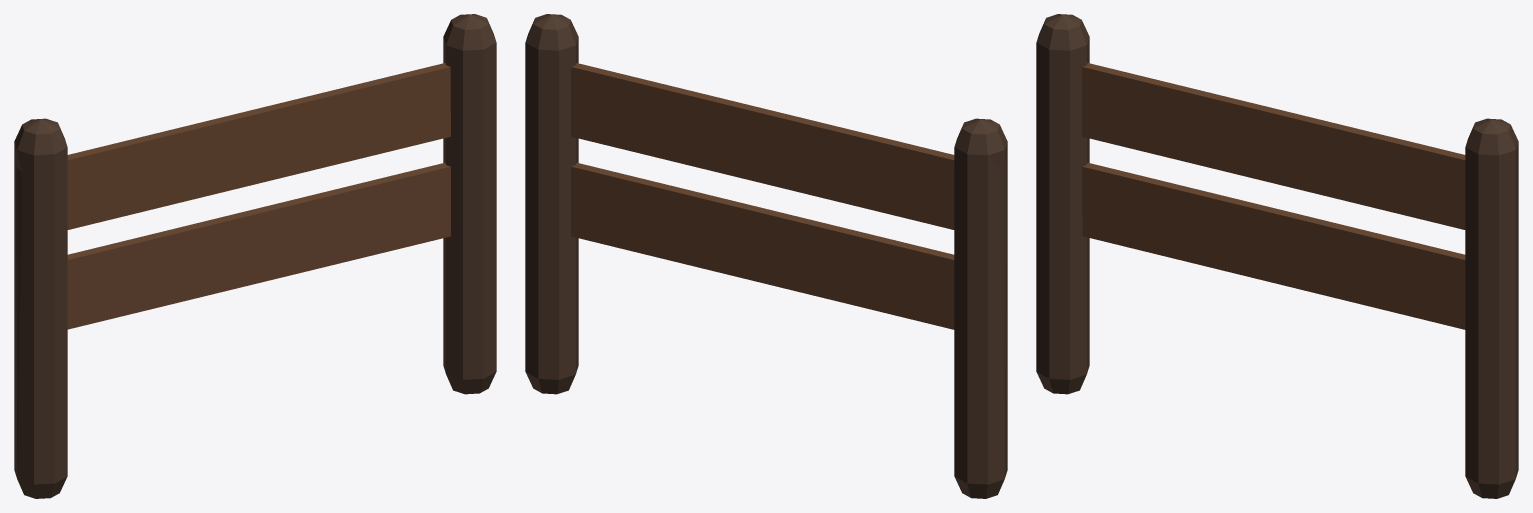
File: Fence.fbx
3 renders of one model, left to right at view 1: azimuth 30°, elevation 25°; view 2: azimuth 150°, elevation 25°; view 3: azimuth 330°, elevation 25°, orthographic.
Visible parts, largest first — view 1: Fence; view 2: Fence; view 3: Fence.
Part boxes in pixels (x1,y1,x2,y2): Fence: (14, 14, 496, 498); Fence: (525, 14, 1007, 498); Fence: (1036, 14, 1518, 498).
Bounding box in the file's own units: 200 × 152 × 20.
